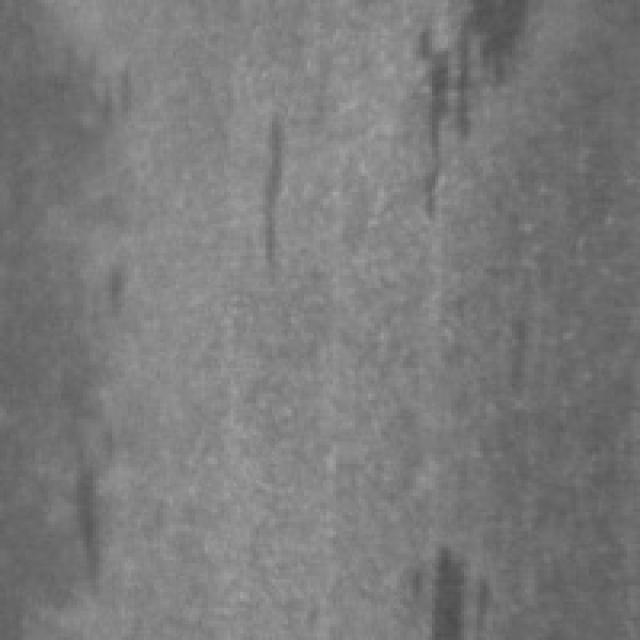inclusion: (400, 0, 480, 230), (51, 368, 122, 614), (224, 96, 307, 291), (419, 528, 493, 637)
